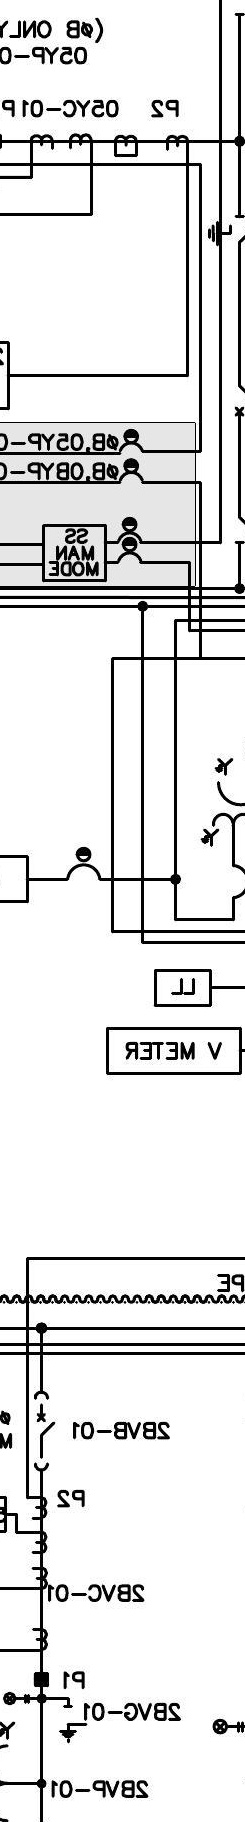22_breaker: (33, 1390, 56, 1472)
22_gs: (59, 1705, 89, 1745)
22_ll: (212, 1718, 244, 1735), (2, 1691, 31, 1706)
LL: (153, 968, 213, 1008)
ss_man_mode: (42, 524, 107, 582)
v_m_digital: (105, 1026, 243, 1076)
